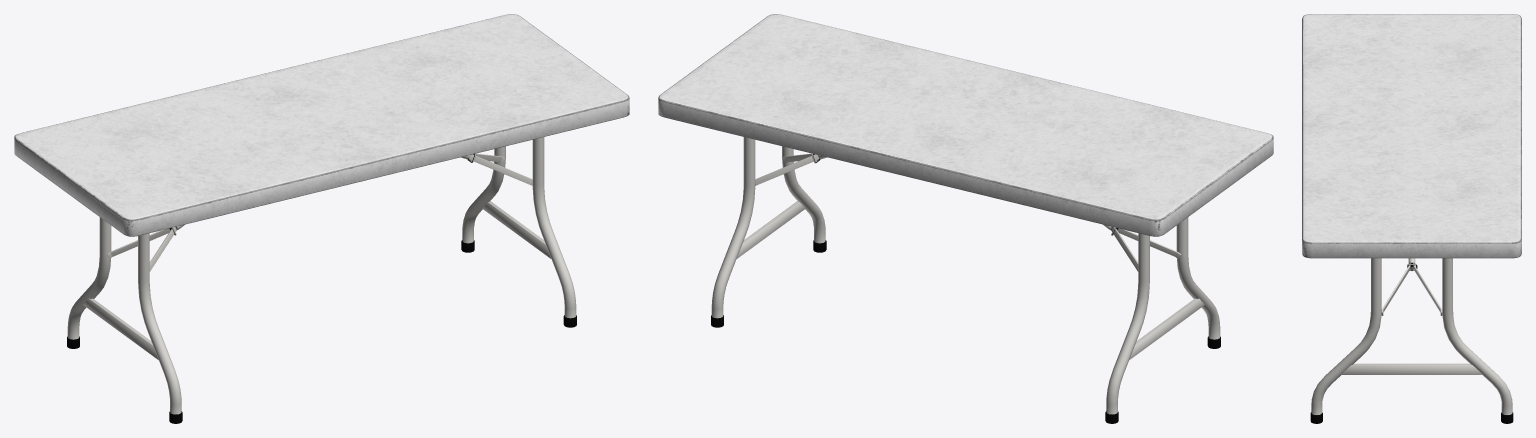
The model's file is metalTable.fbx.
3 views of the same model, side by side, from view 1: azimuth 30°, elevation 25°; view 2: azimuth 150°, elevation 25°; view 3: azimuth 270°, elevation 25° (orthographic). The views are drawn at different scales.
Visible parts, largest first — view 1: Folding_Table_; view 2: Folding_Table_; view 3: Folding_Table_.
Boxes of the visible parts, box(x1,y1,x2,y2) form: Folding_Table_: box(14, 14, 629, 423); Folding_Table_: box(658, 14, 1273, 423); Folding_Table_: box(1302, 14, 1521, 423).
Bounding box in the file's own units: 19456 × 8057 × 7883.
